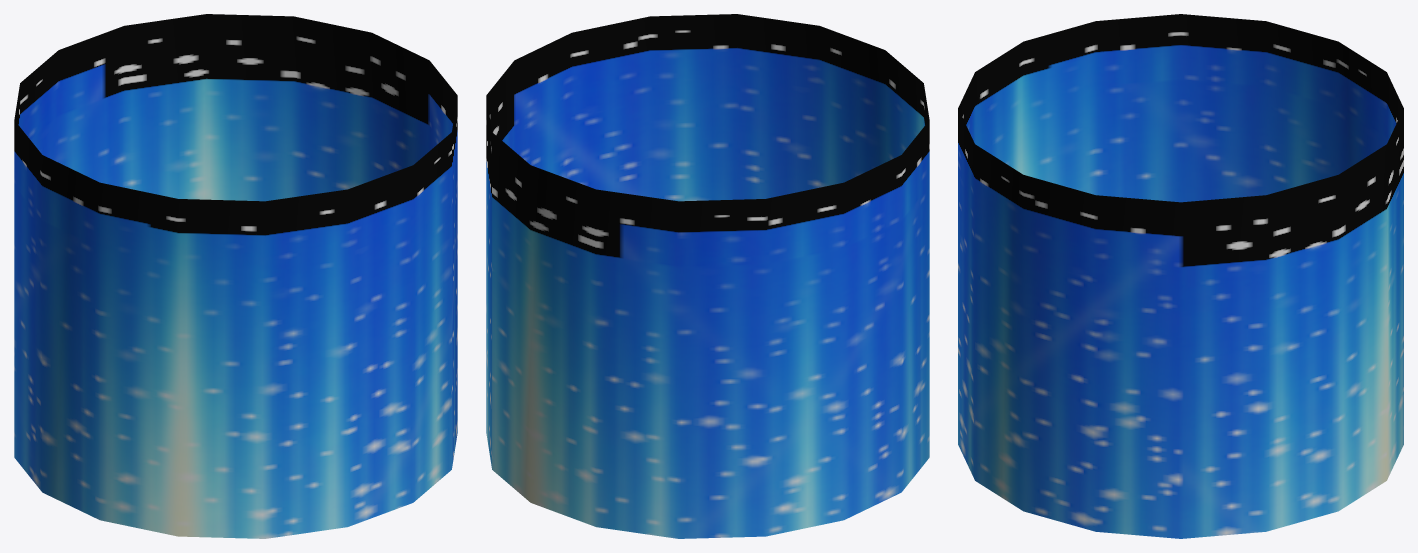
File: teleportbeam.obj
3 views of the same model, side by side, from view 1: azimuth 30°, elevation 25°; view 2: azimuth 150°, elevation 25°; view 3: azimuth 270°, elevation 25° (orthographic).
Visible parts, largest first — view 1: beam; view 2: beam; view 3: beam.
Part boxes in pixels (x1=…): beam: x1=14, y1=14, x2=457, y2=538; beam: x1=486, y1=14, x2=929, y2=538; beam: x1=958, y1=14, x2=1403, y2=538.
Bounding box in the file's own units: 1.2 × 1 × 1.2.
